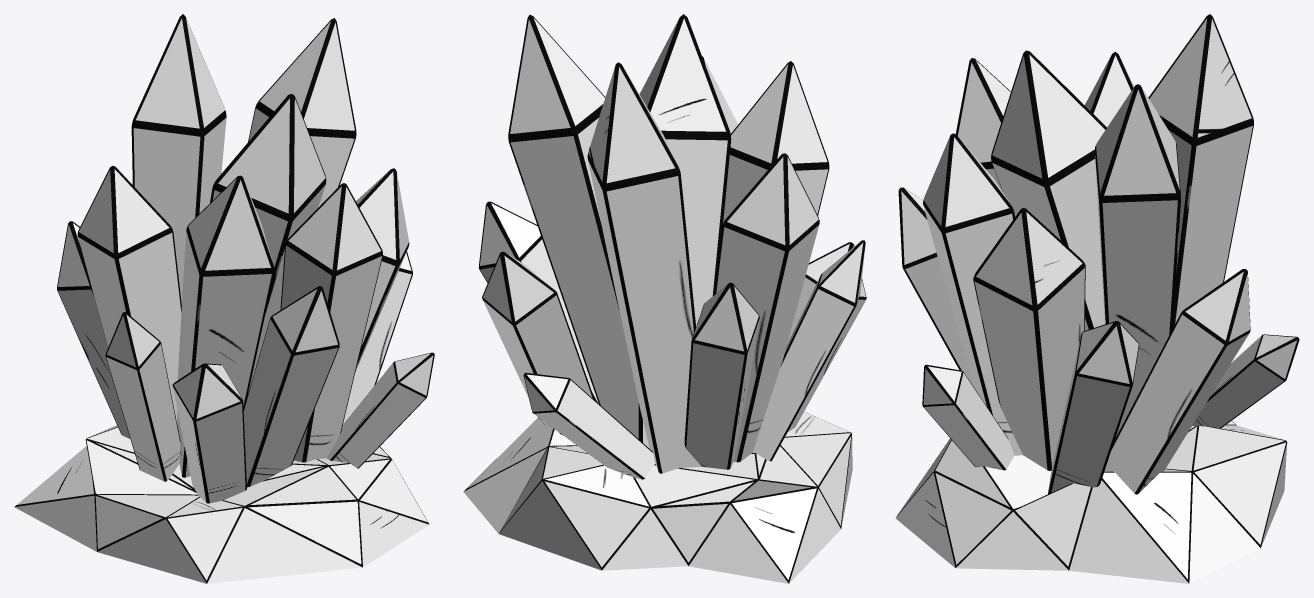
File: Mineral1.fbx
3 views of the same model, side by side, from view 1: azimuth 30°, elevation 25°; view 2: azimuth 150°, elevation 25°; view 3: azimuth 270°, elevation 25° (orthographic). The views are drawn at different scales.
Visible parts, largest first — view 1: Cube.030, Icosphere.001; view 2: Cube.030, Icosphere.001; view 3: Cube.030, Icosphere.001.
Part boxes in pixels (<box>): Cube.030: <box>57,14,434,503</box>; Icosphere.001: <box>14,425,429,583</box>; Cube.030: <box>478,14,866,479</box>; Icosphere.001: <box>463,411,852,583</box>; Cube.030: <box>898,14,1299,494</box>; Icosphere.001: <box>895,420,1287,583</box>.
Bounding box in the file's own units: 4.67 × 6.05 × 4.54.
